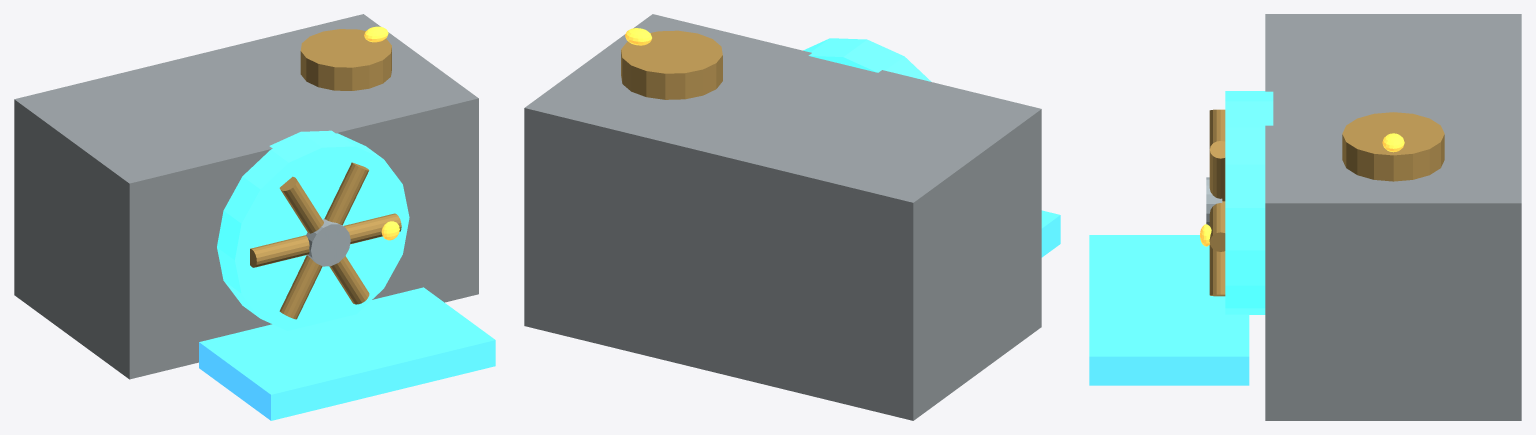
File: hydro-power.glb
3 renders of one model, left to right at view 1: azimuth 30°, elevation 25°; view 2: azimuth 150°, elevation 25°; view 3: azimuth 270°, elevation 25°, orthographic. The views are drawn at different scales.
Parts seen in each view (by area): view 1: hydro intake, water spill, water turbine, hydro generator rotor, hydro rotor hub, hydro rotor spoke.001, hydro rotor spoke.004, hydro rotor spoke.003, hydro rotor spoke.002, hydro rotor spoke.005, hydro rotor spoke; view 2: hydro intake, hydro generator rotor, water turbine, water spill; view 3: hydro intake, water spill, water turbine, hydro generator rotor, hydro rotor spoke.001, hydro rotor spoke.005, hydro rotor spoke, hydro rotor spoke.002.
Part boxes in pixels (bbox=[...]): hydro intake: bbox=[14, 14, 478, 379]; water spill: bbox=[199, 287, 495, 420]; water turbine: bbox=[217, 130, 409, 330]; hydro generator rotor: bbox=[300, 29, 391, 90]; hydro rotor hub: bbox=[306, 219, 350, 266]; hydro rotor spoke.001: bbox=[324, 162, 369, 225]; hydro rotor spoke.004: bbox=[279, 255, 322, 319]; hydro rotor spoke.003: bbox=[250, 235, 309, 267]; hydro rotor spoke.002: bbox=[279, 176, 323, 233]; hydro rotor spoke.005: bbox=[329, 256, 369, 304]; hydro rotor spoke: bbox=[344, 213, 401, 244]; hydro intake: bbox=[524, 14, 1041, 420]; hydro generator rotor: bbox=[621, 30, 722, 99]; water turbine: bbox=[803, 38, 931, 81]; water spill: bbox=[1041, 210, 1060, 257]; hydro intake: bbox=[1265, 14, 1521, 420]; water spill: bbox=[1089, 235, 1249, 385]; water turbine: bbox=[1225, 91, 1273, 314]; hydro generator rotor: bbox=[1342, 112, 1444, 181]; hydro rotor spoke.001: bbox=[1209, 141, 1225, 201]; hydro rotor spoke.005: bbox=[1209, 244, 1225, 296]; hydro rotor spoke: bbox=[1209, 201, 1225, 251]; hydro rotor spoke.002: bbox=[1209, 109, 1225, 149].
Size of the model in its own units: 1.4 by 0.9 by 1.35.
